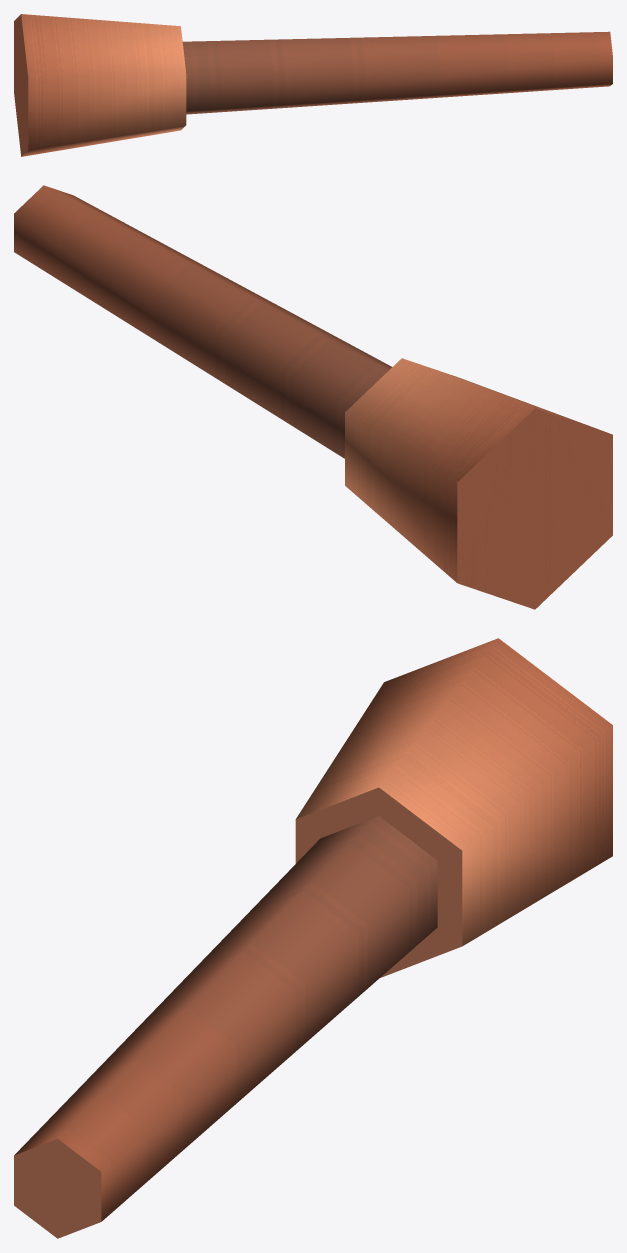
File: group.004_lev2.glb
3 renders of one model, top to bottom at view 1: azimuth 30°, elevation 25°; view 2: azimuth 150°, elevation 25°; view 3: azimuth 270°, elevation 25°, orthographic. The views are drawn at different scales.
Visible parts, largest first — view 1: group.004_lev2; view 2: group.004_lev2; view 3: group.004_lev2.
Boxes of the visible parts, x1,y1,x2,y2 form: group.004_lev2: (14, 14, 612, 156); group.004_lev2: (14, 185, 612, 609); group.004_lev2: (14, 638, 612, 1238).
Bounding box in the file's own units: 2.89 × 0.7855 × 1.63.
Materials: 1 (1 with a texture image).
